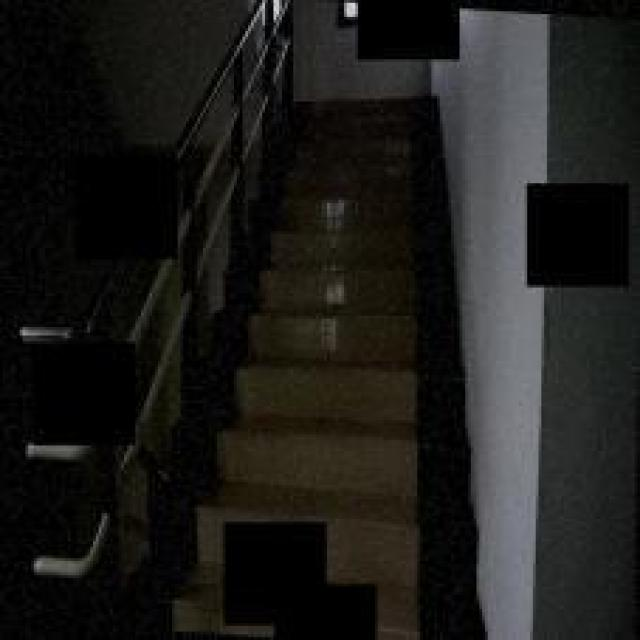upstair: (238, 86, 480, 506)
